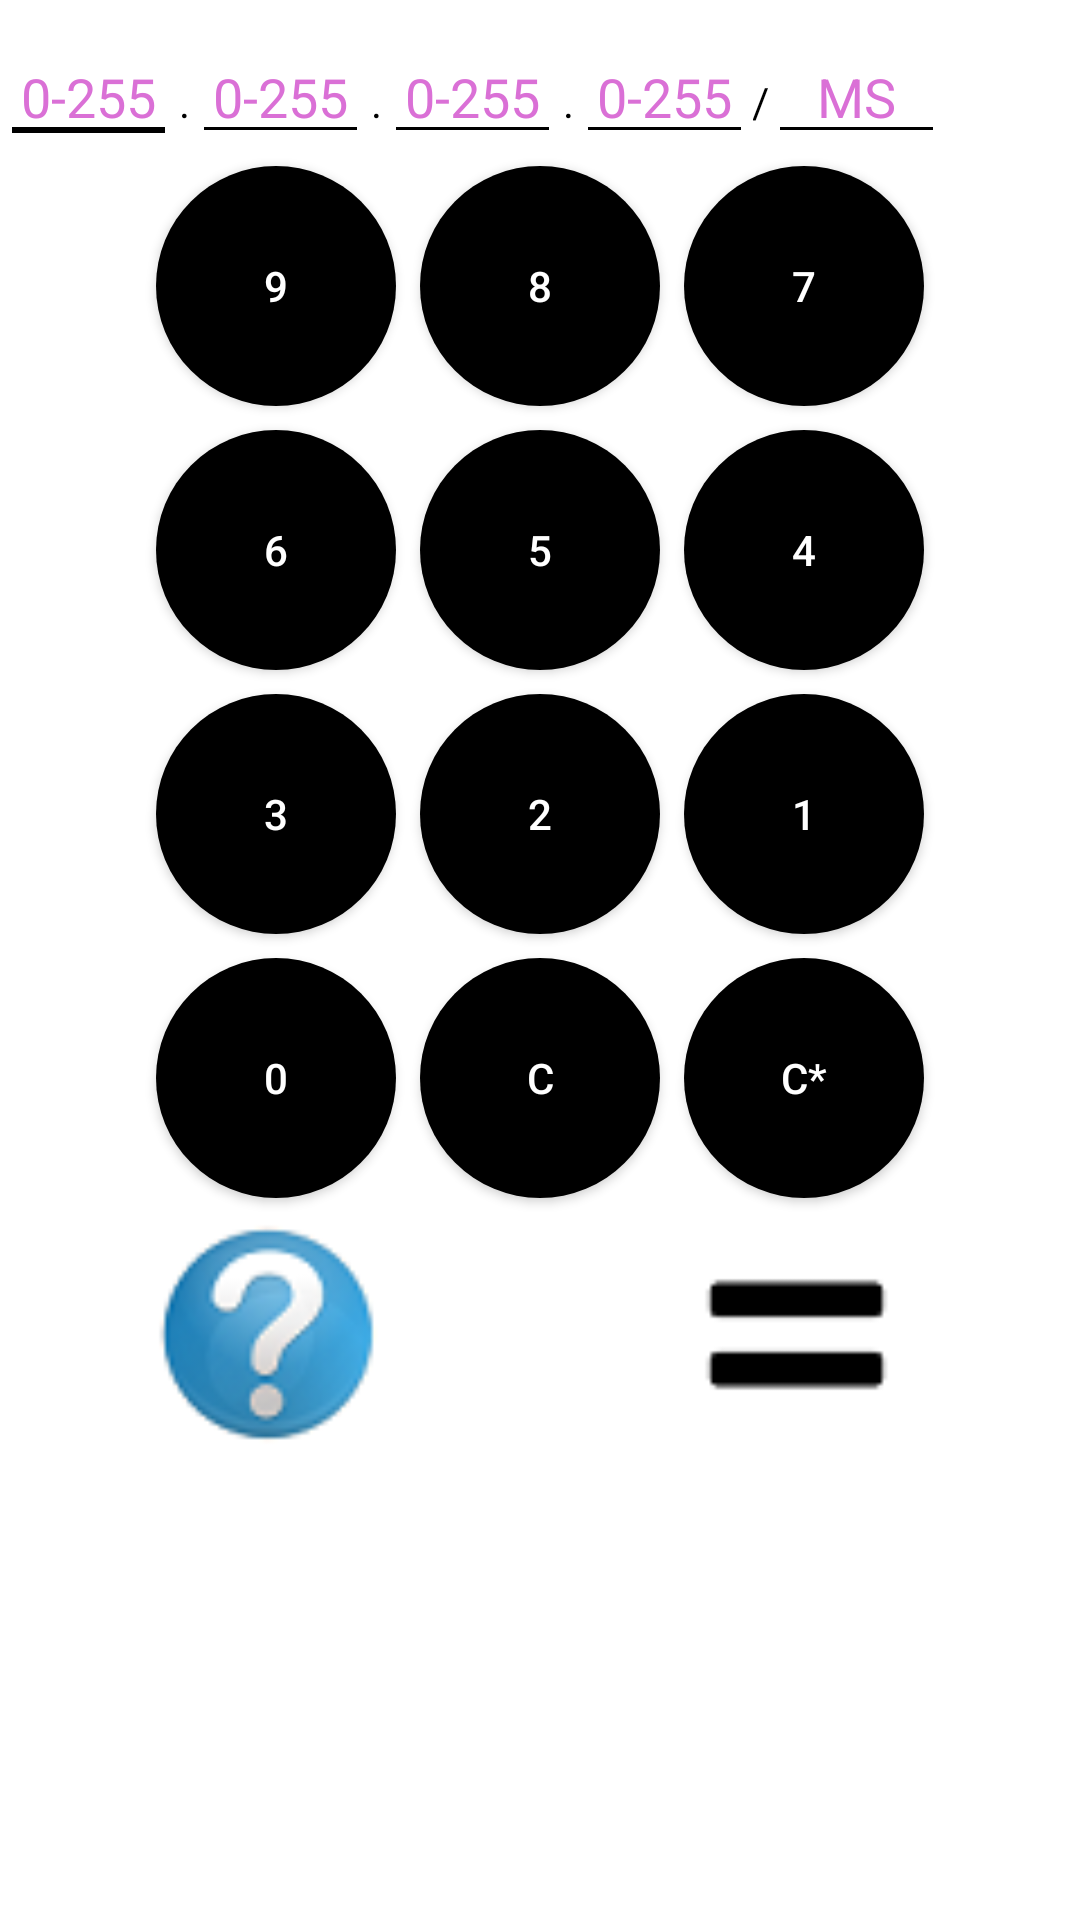

Icons on this 1080 x 1920 Android screen, each with its box as detection(x1, y1, x2, y2):
help: detection(161, 1229, 374, 1440)
igual: detection(707, 1279, 886, 1390)
